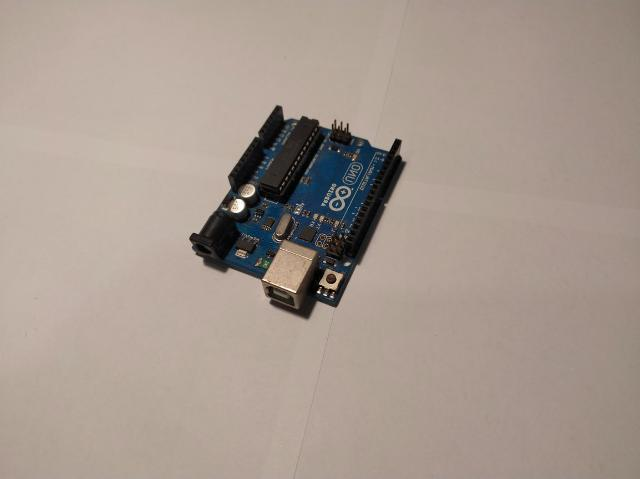arduino: (189, 106, 401, 312)
